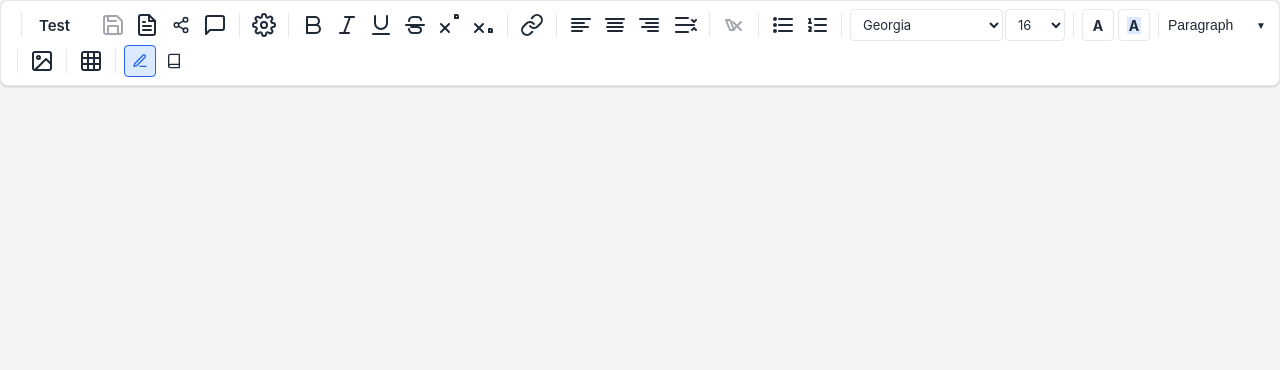
Test case: Toolbar page settings gear button › opens page settings popup on gear button click
What coordinates should you click on to do the following:
click the button named "Page settings"
I would click on:
 (264, 25)
Its box is 248,9 -> 280,41.
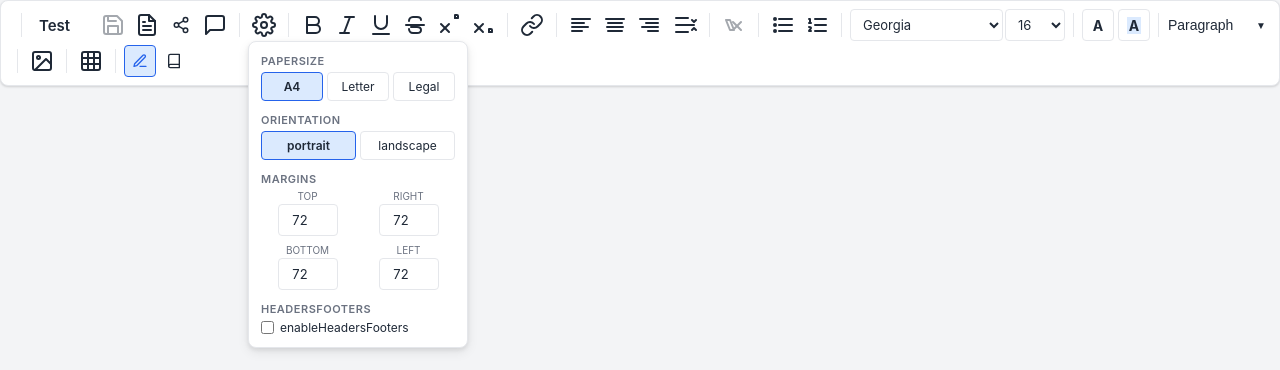
Expected: the button "A4" is shown, 261,72 -> 323,101
Expected: the button "Letter" is shown, 327,72 -> 389,101
